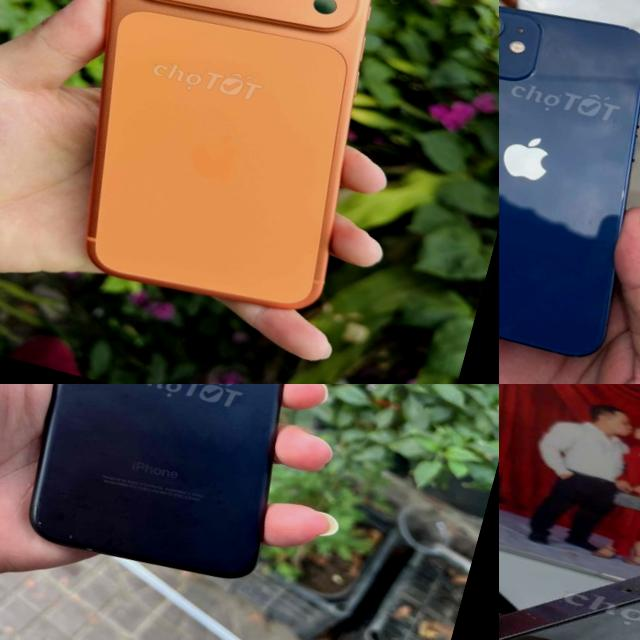gen_12_13: (499, 0, 640, 384)
gen_14: (499, 397, 640, 640)
gen_17: (18, 0, 437, 345)
gen_7_8: (0, 384, 353, 602)
